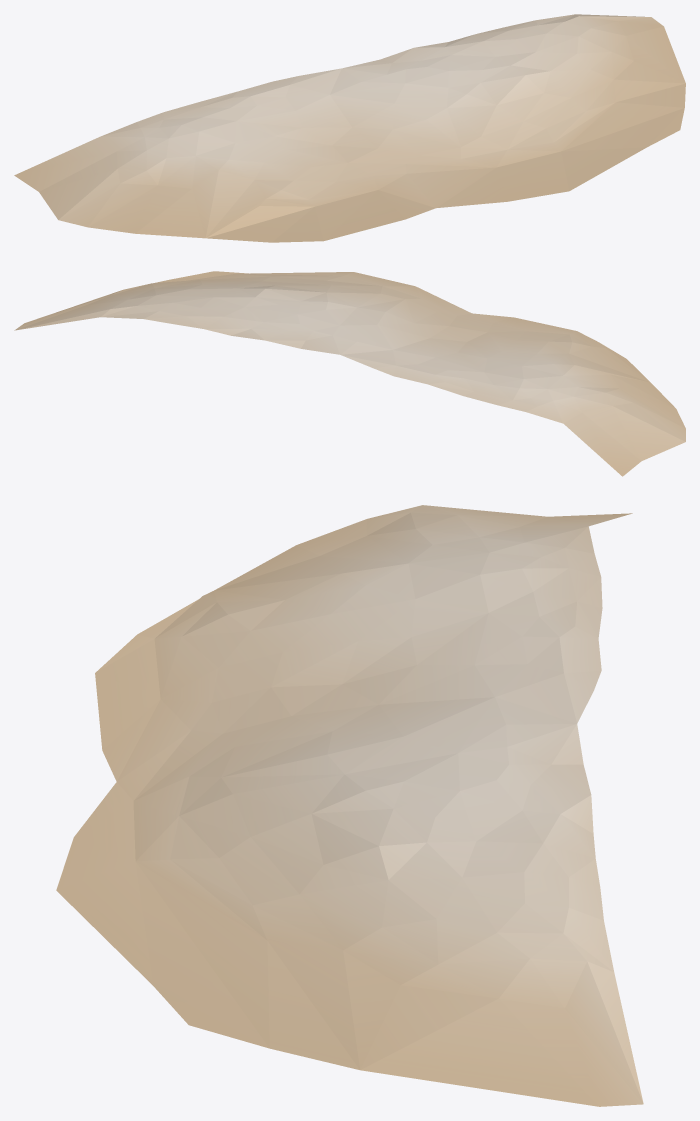
Rendered from Beach.fbx.
The picture shows the model from 3 angles, top to bottom: view 1: azimuth 30°, elevation 25°; view 2: azimuth 150°, elevation 25°; view 3: azimuth 270°, elevation 25°; orthographic projection. The views are drawn at different scales.
Visible parts, largest first — view 1: Beach; view 2: Beach; view 3: Beach.
Boxes of the visible parts, x1,y1,x2,y2 form: Beach: (14, 14, 685, 242); Beach: (14, 271, 685, 476); Beach: (56, 505, 643, 1106).
Bounding box in the file's own units: 53.23 × 3.56 × 21.93.
